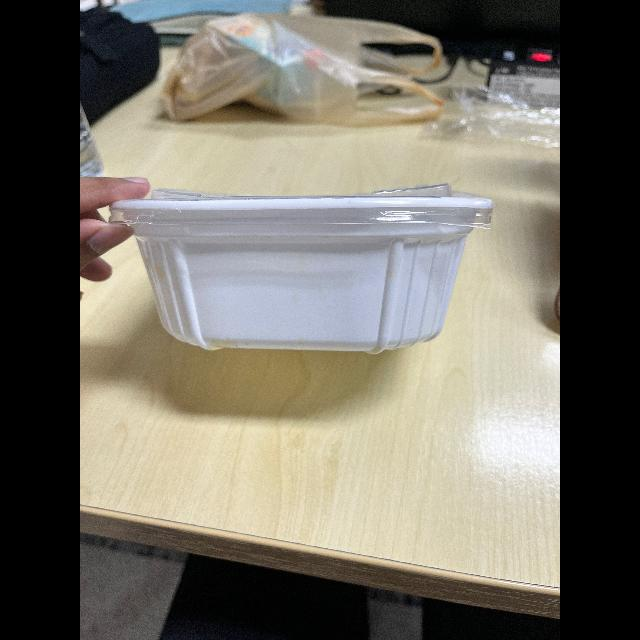plastic_box: (98, 168, 496, 368)
